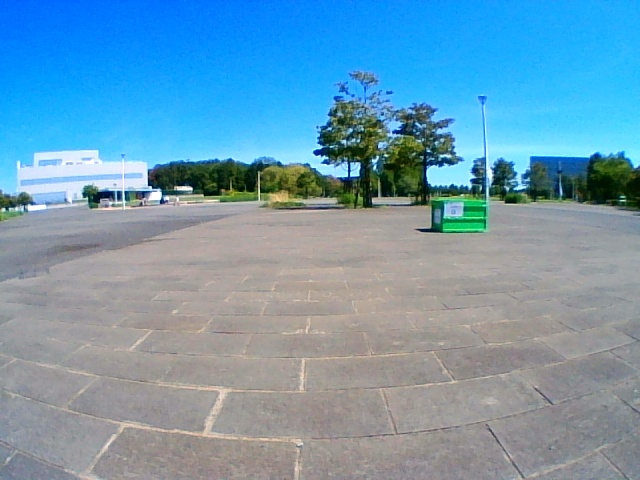green_box: (431, 200, 485, 232)
tag: (443, 203, 462, 218)
